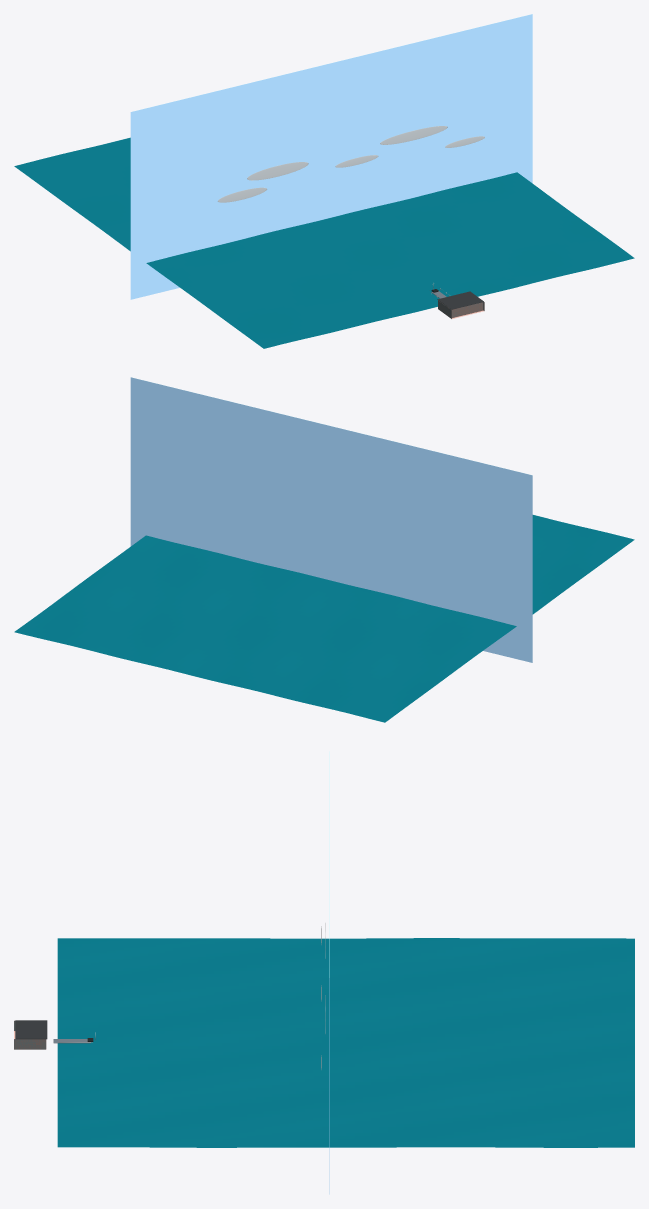
Rendered from ModernBridgeCockpit_VR_v1.3.fbx.
The picture shows the model from 3 angles, top to bottom: view 1: azimuth 30°, elevation 25°; view 2: azimuth 150°, elevation 25°; view 3: azimuth 270°, elevation 25°; orthographic projection. The views are drawn at different scales.
Parts seen in each view (by area): view 1: environment_sky_backdrop, environment_ocean_wave_preview, environment_cloud_soft_puff_1, environment_cloud_soft_puff_3, bridge_ceiling_panel; view 2: environment_sky_backdrop, environment_ocean_wave_preview; view 3: environment_ocean_wave_preview, bridge_ceiling_panel.
Boxes of the visible parts, left/top/right/bottom form: environment_sky_backdrop: left=130, top=14, right=532, bottom=299; environment_ocean_wave_preview: left=14, top=137, right=634, bottom=348; environment_cloud_soft_puff_1: left=247, top=162, right=308, bottom=180; environment_cloud_soft_puff_3: left=380, top=126, right=447, bottom=144; bridge_ceiling_panel: left=437, top=291, right=483, bottom=309; environment_sky_backdrop: left=130, top=377, right=532, bottom=662; environment_ocean_wave_preview: left=14, top=515, right=634, bottom=722; environment_ocean_wave_preview: left=57, top=938, right=634, bottom=1147; bridge_ceiling_panel: left=15, top=1020, right=47, bottom=1039.
Size of what is drawn, in the model's own units: 13000 by 5800 by 15055.
